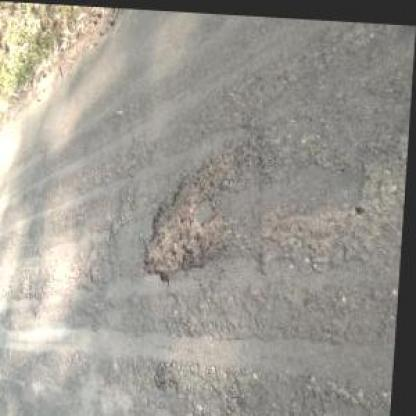pothole: (144, 152, 237, 283), (157, 356, 188, 390)
